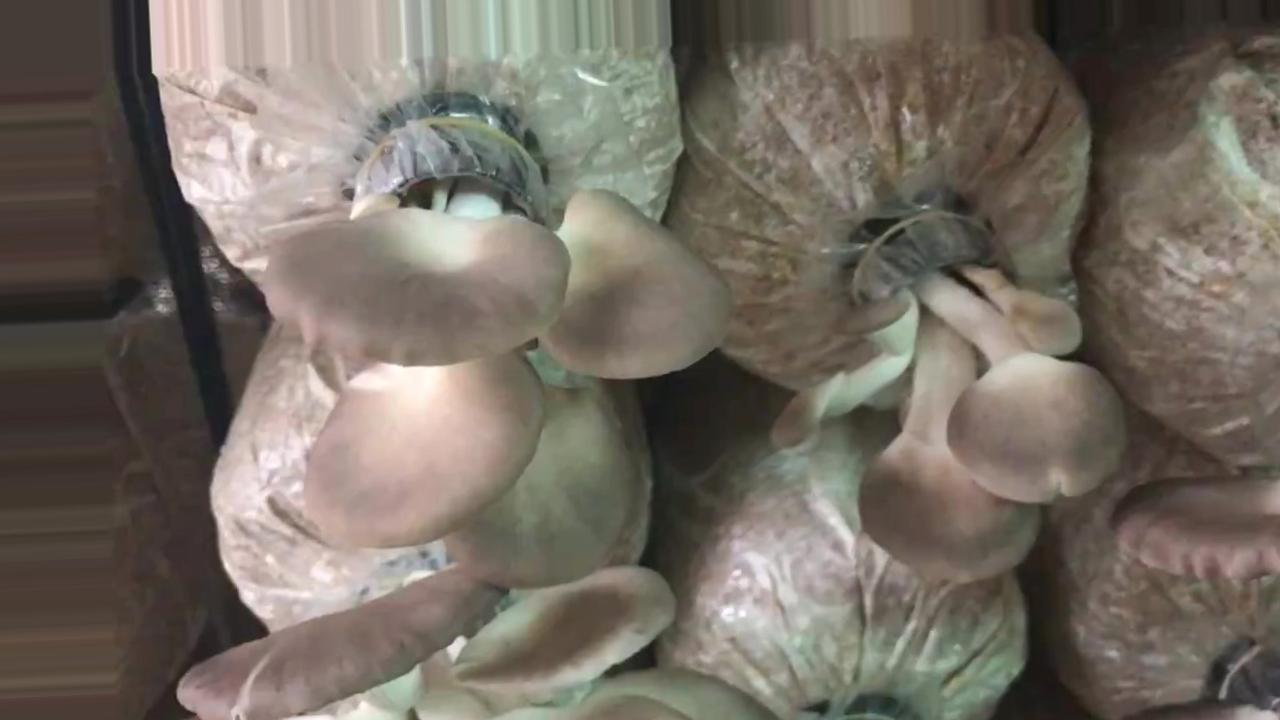nam: (261, 168, 725, 567), (773, 223, 1125, 577), (181, 568, 759, 720), (1114, 478, 1280, 575)
